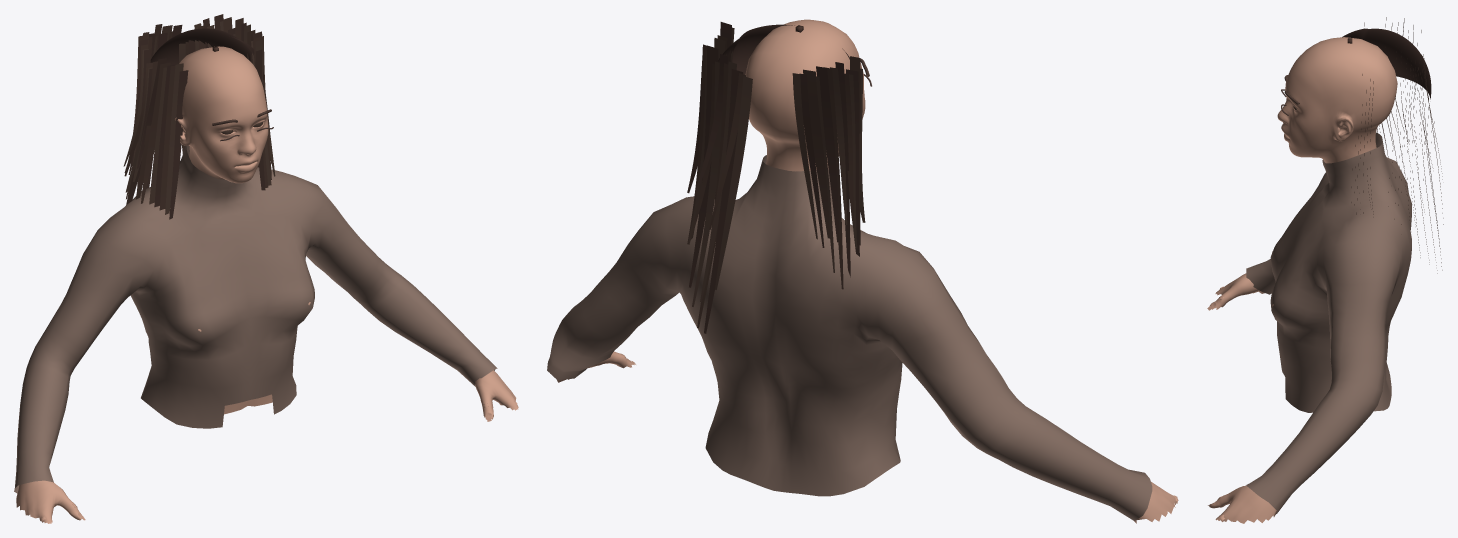
Rendered from archivista_v46.glb.
3 views of the same model, side by side, from view 1: azimuth 30°, elevation 25°; view 2: azimuth 150°, elevation 25°; view 3: azimuth 270°, elevation 25° (orthographic). The views are drawn at different scales.
Parts seen in each view (by area): view 1: ARCHIVISTA_VOLTO_OCCHI_V46, V45_Hair_Locks, V45_Hair_Crown; view 2: ARCHIVISTA_VOLTO_OCCHI_V46, V45_Hair_Locks, V45_Hair_Crown; view 3: ARCHIVISTA_VOLTO_OCCHI_V46, V45_Hair_Crown, V45_Hair_Locks.
Part boxes in pixels (x1,y1,x2,y2): ARCHIVISTA_VOLTO_OCCHI_V46: (14, 46, 518, 523); V45_Hair_Locks: (123, 14, 275, 219); V45_Hair_Crown: (150, 28, 263, 86); ARCHIVISTA_VOLTO_OCCHI_V46: (547, 19, 1178, 523); V45_Hair_Locks: (687, 22, 865, 333); V45_Hair_Crown: (718, 24, 849, 74); ARCHIVISTA_VOLTO_OCCHI_V46: (1207, 37, 1411, 523); V45_Hair_Crown: (1342, 28, 1431, 99); V45_Hair_Locks: (1351, 17, 1443, 273).
Bounding box in the file's own units: 0.9237 × 0.6805 × 0.3901.
